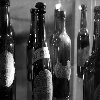beer: (31, 3, 54, 100)
